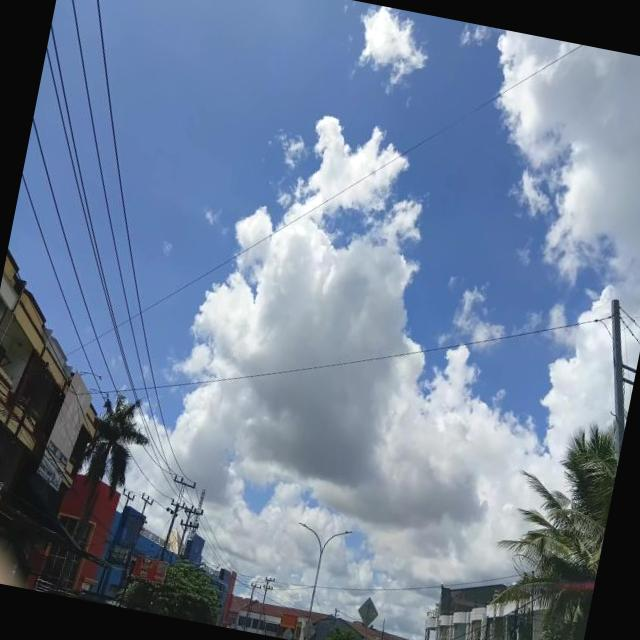cumulus: (168, 216, 555, 558), (458, 42, 640, 254)
